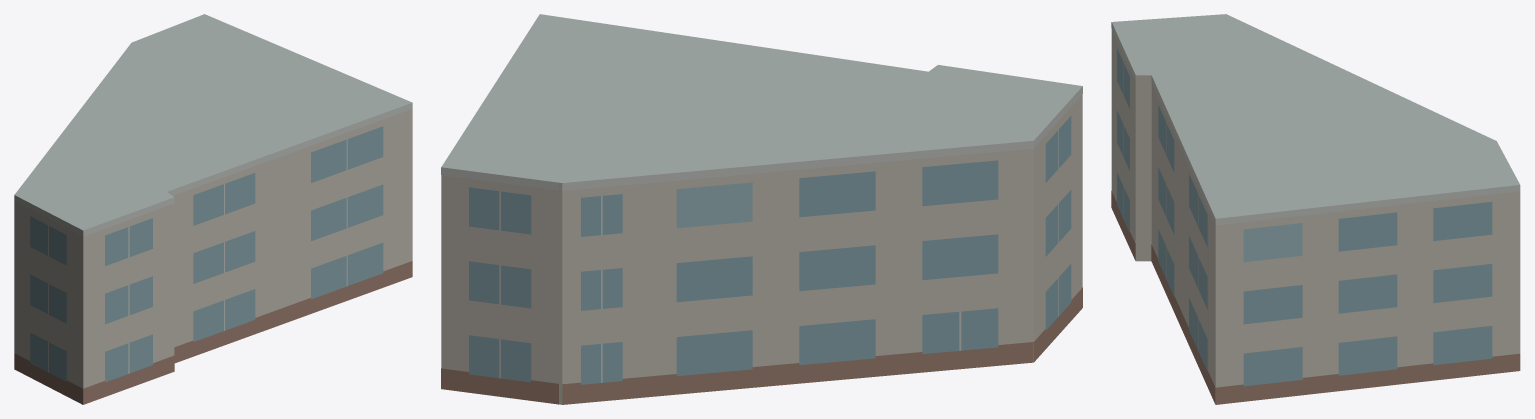
File: survey-upis-32974751.glb
The picture shows the model from 3 angles, left to right: view 1: azimuth 30°, elevation 25°; view 2: azimuth 150°, elevation 25°; view 3: azimuth 270°, elevation 25°; orthographic projection. The views are drawn at different scales.
Visible parts, largest first — view 1: survey-upis-32974751.tmp; view 2: survey-upis-32974751.tmp; view 3: survey-upis-32974751.tmp.
Boxes of the visible parts, box(x1,y1,x2,y2) form: survey-upis-32974751.tmp: box(14, 14, 412, 404); survey-upis-32974751.tmp: box(441, 14, 1082, 404); survey-upis-32974751.tmp: box(1111, 14, 1520, 404).
Bounding box in the file's own units: 16.3 × 6.9 × 13.75.
